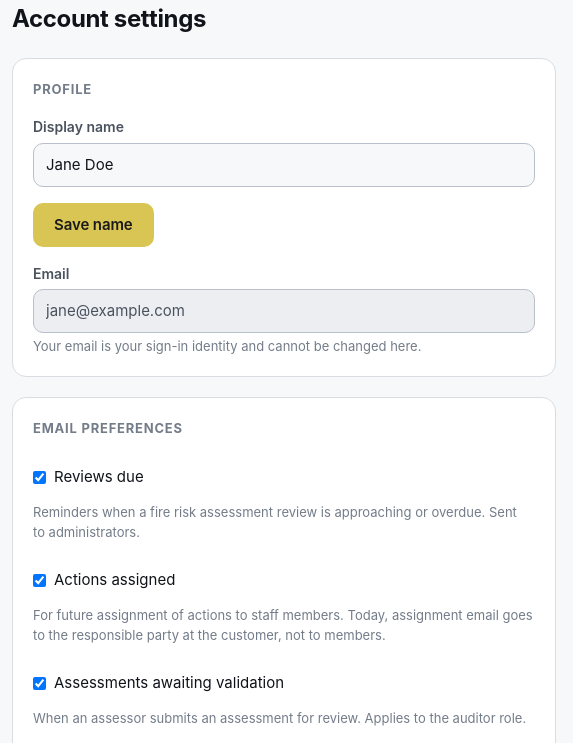
Test case: AccountPage email preferences › saves every category through updateMyPreferences
Click the checkbox labelled "Reviews due" at (40,477), box [33,471,46,484]
(page scrolled)
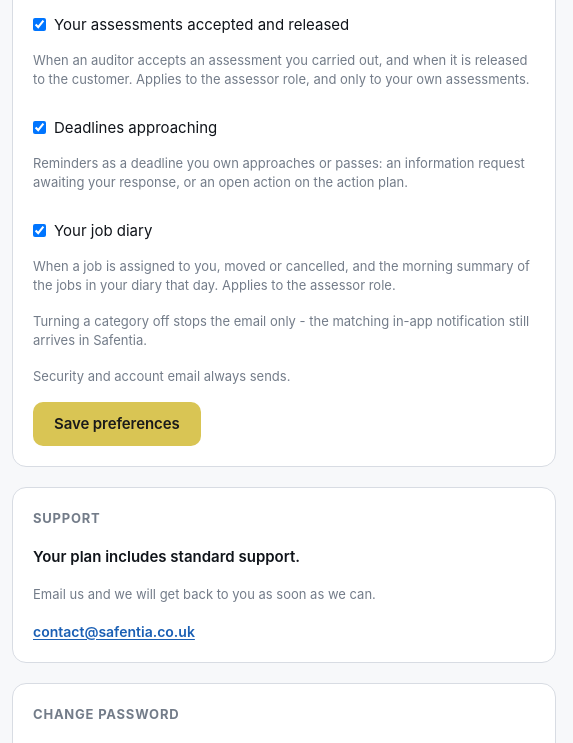
Click the button "Save preferences" at (117,424), box [33,402,201,446]
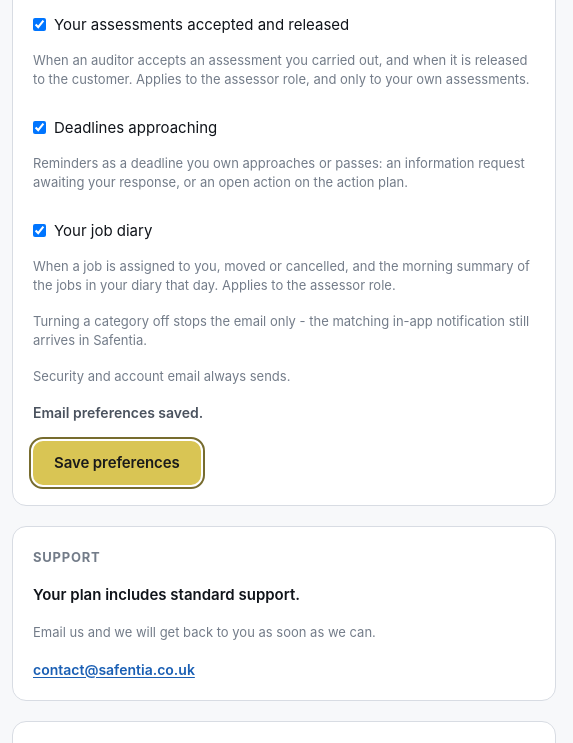
Now the text "Email preferences saved." is shown, box [33,402,203,425]
